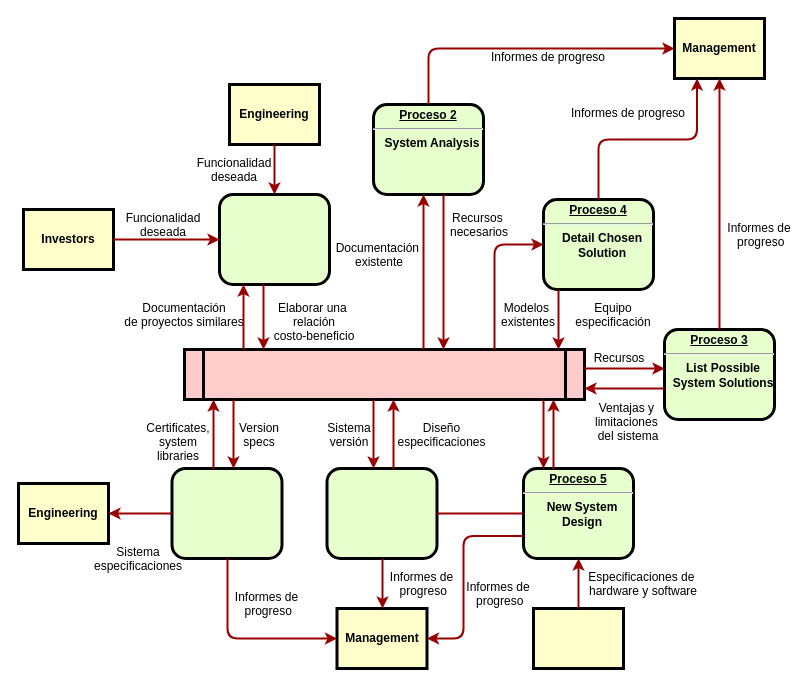
This 809x687 diagram has some shape labels left out. Each missing label, with the centre of its shape:
Proceso 1 System Study Preparation: [274,239]
Proceso 6 New System Construction: [226,513]
Proceso 7 New System Startup and Testing: [381,513]
Vendors: [578,638]
VigilIA: [384,374]
